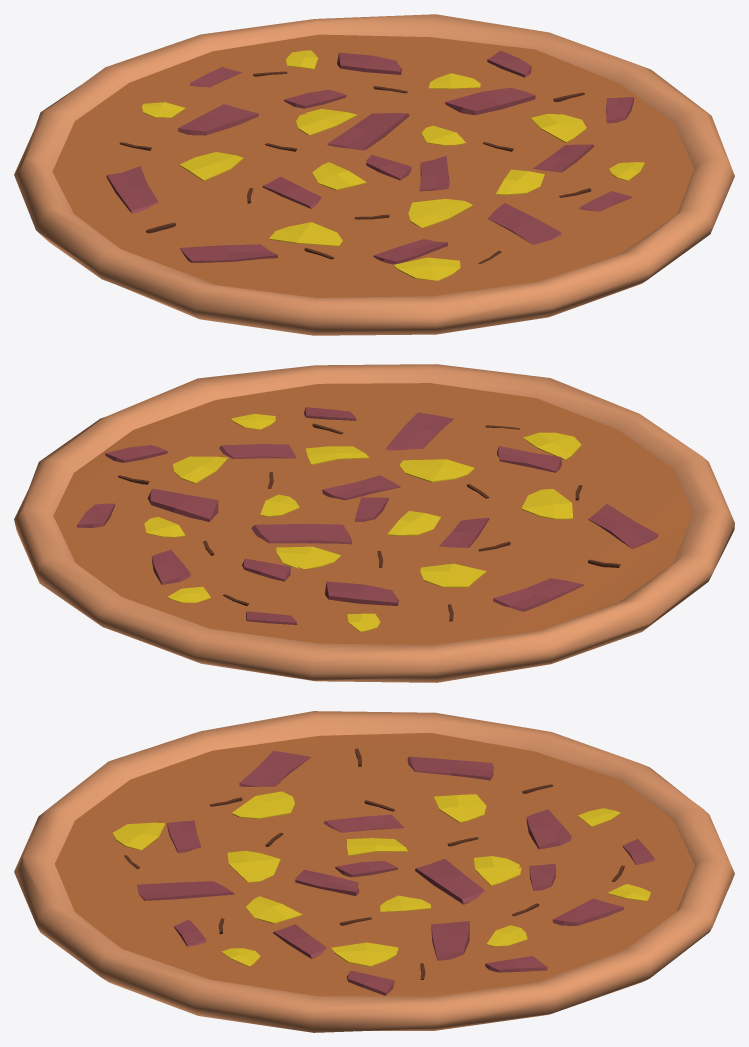
The model's file is Barbecue.fbx.
3 renders of one model, top to bottom at view 1: azimuth 30°, elevation 25°; view 2: azimuth 150°, elevation 25°; view 3: azimuth 270°, elevation 25°, orthographic.
Parts seen in each view (by area): view 1: Plane.002; view 2: Plane.002; view 3: Plane.002.
Boxes of the visible parts, box(x1,y1,x2,y2) form: Plane.002: box(14, 14, 734, 335); Plane.002: box(14, 364, 734, 682); Plane.002: box(14, 711, 734, 1032).
Bounding box in the file's own units: 199 × 10.21 × 202.
